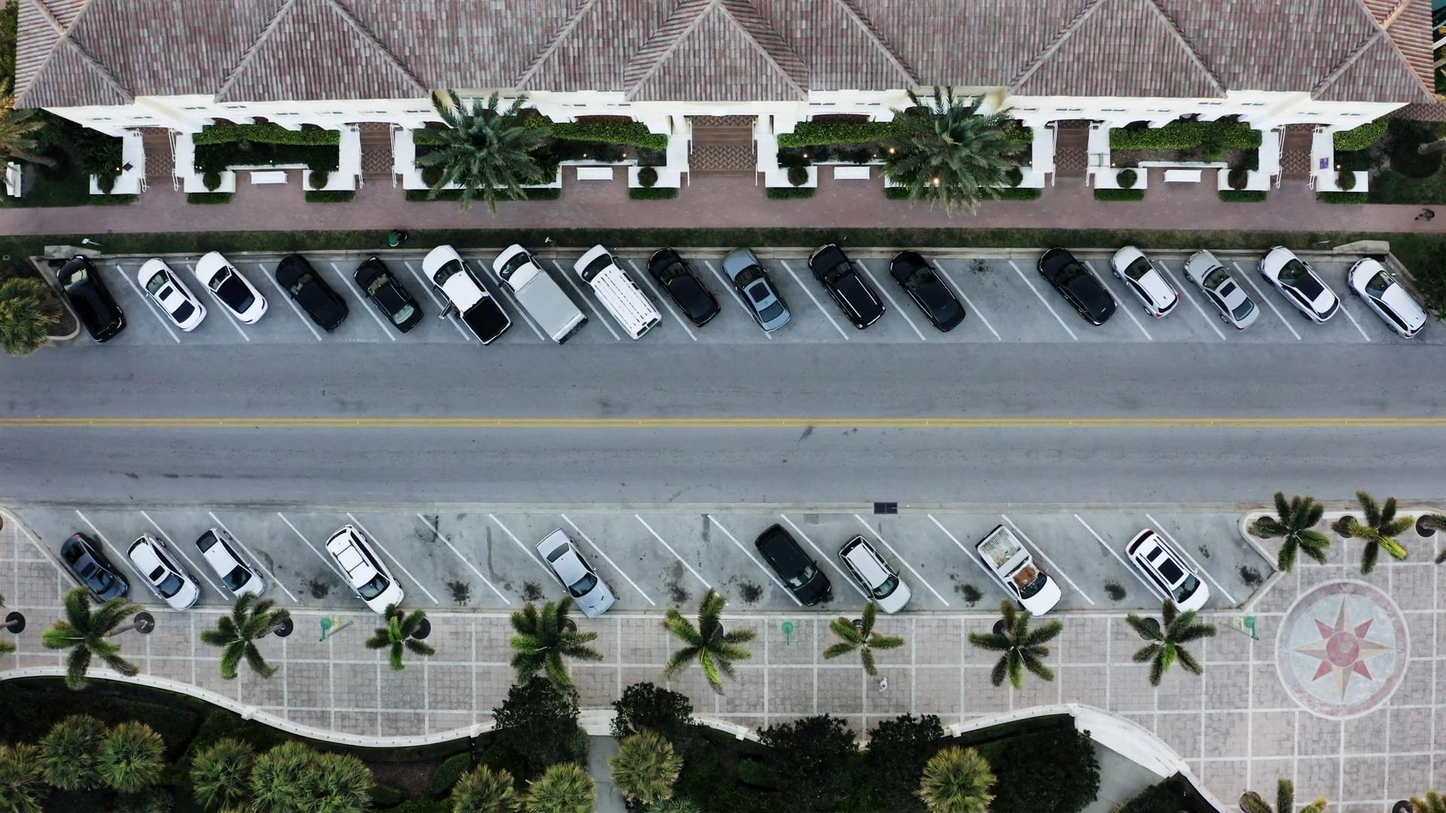free: (950, 265, 1086, 352), (656, 527, 792, 614), (859, 511, 995, 598), (1022, 536, 1158, 623), (369, 521, 505, 608), (433, 520, 569, 607), (215, 510, 351, 597), (1146, 486, 1281, 573), (598, 529, 733, 616)
occupied: (127, 257, 262, 345), (647, 262, 783, 349), (743, 282, 879, 369), (797, 255, 933, 342), (869, 252, 1005, 339), (1040, 251, 1176, 338), (1243, 259, 1379, 346), (1163, 258, 1299, 345), (1093, 254, 1229, 341), (1310, 246, 1446, 333), (736, 522, 872, 609), (815, 527, 951, 614), (1096, 520, 1232, 607), (301, 528, 437, 615), (488, 258, 624, 345), (573, 273, 709, 360), (274, 268, 410, 355), (329, 263, 465, 350), (407, 242, 543, 329), (181, 257, 317, 344), (100, 514, 236, 601), (157, 527, 293, 614), (44, 263, 180, 350), (713, 252, 848, 339), (952, 540, 1087, 627), (526, 530, 661, 617), (44, 544, 179, 631)
